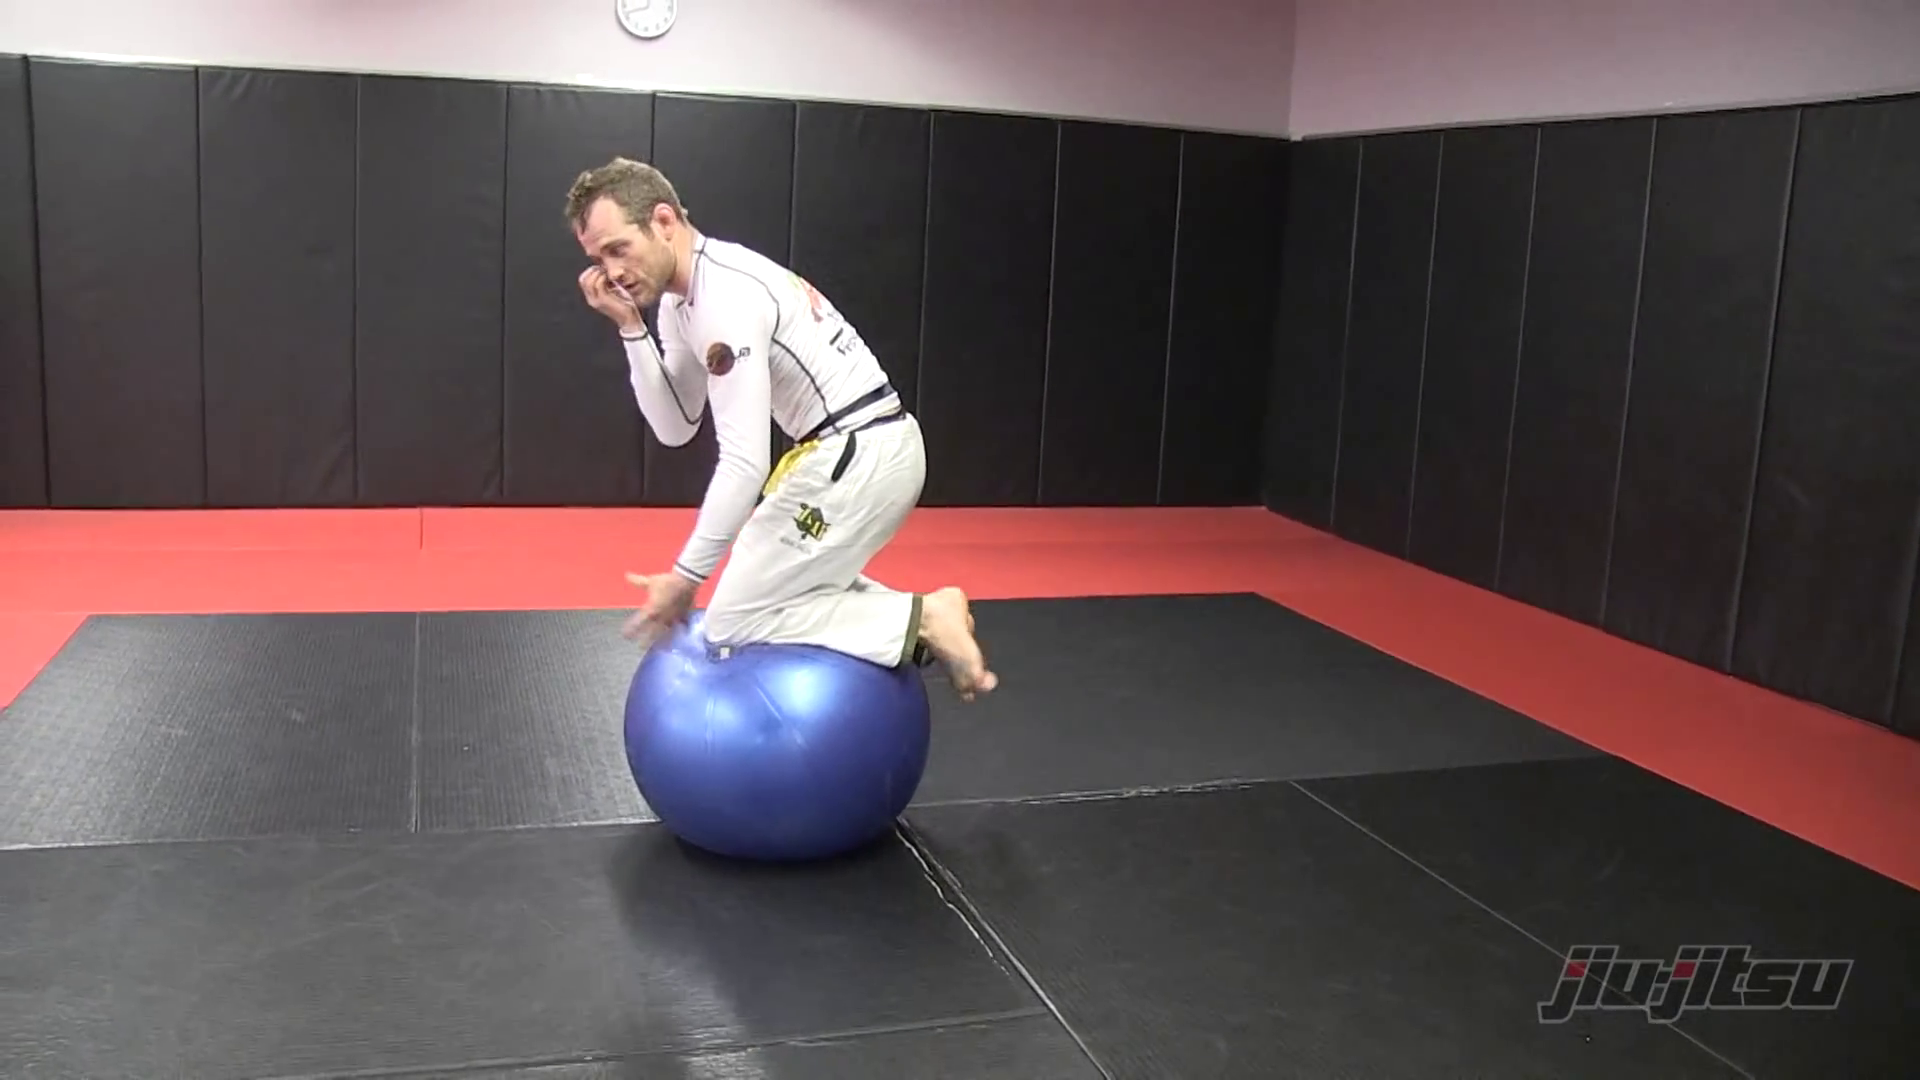yogaball: (608, 608, 945, 876)
